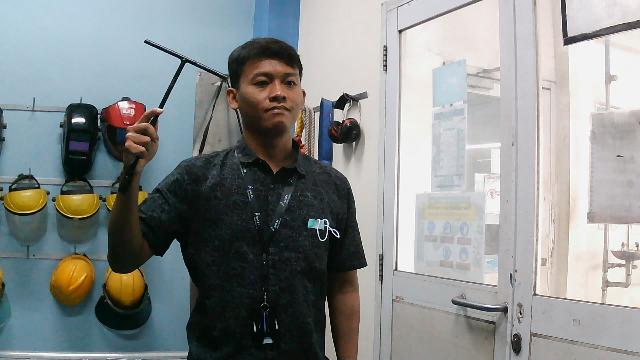kunci_t: (57, 23, 239, 218)
